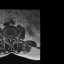CCS_normal: (10, 36, 11, 44)
LFS_severe_stenosis: (12, 36, 14, 39)
LLS_stenosis: (11, 36, 12, 41)
RFS_severe_stenosis: (7, 36, 8, 40)
RLS_stenosis: (8, 36, 10, 41)
